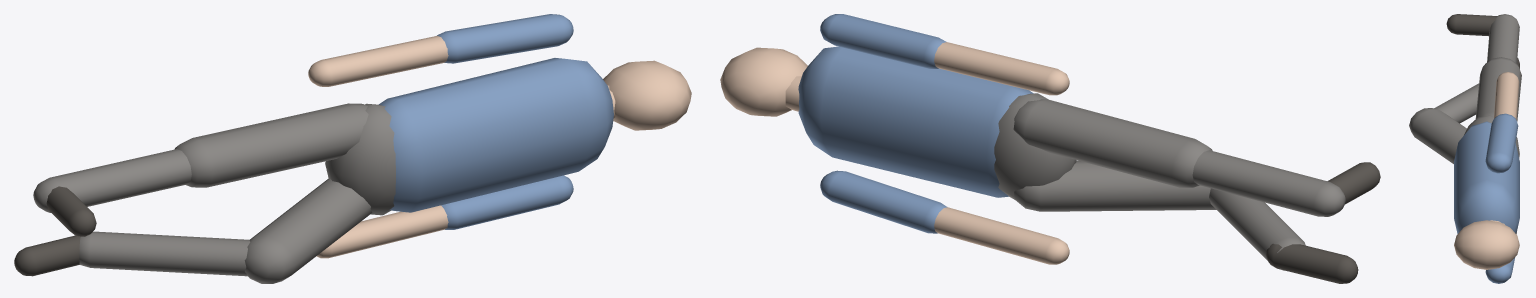
The model's file is casualty.glb.
3 views of the same model, side by side, from view 1: azimuth 30°, elevation 25°; view 2: azimuth 150°, elevation 25°; view 3: azimuth 270°, elevation 25° (orthographic). The views are drawn at different scales.
Parts seen in each view (by area): view 1: casualty_body; view 2: casualty_body; view 3: casualty_body.
Part boxes in pixels (<box>): casualty_body: <box>14,14,691,283</box>; casualty_body: <box>720,14,1380,283</box>; casualty_body: <box>1409,14,1521,283</box>.
Size of the model in its own units: 0.7 by 0.2 by 0.1503.
